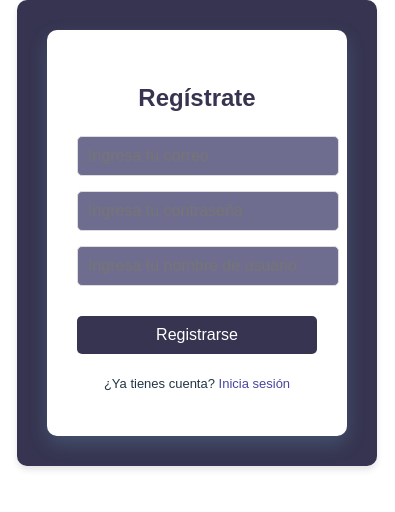
Scenario: Muestra error si el correo ya esta registrado
# datos a ingresar que ya estan registrados (simulación de interacción)
Type "quispeaguilar.bel3n@gmail.com" into the field with placeholder "Ingresa tu correo".
click(208, 156); type("quispeaguilar.bel3n@gmail.com")  # box [77,136,339,176]
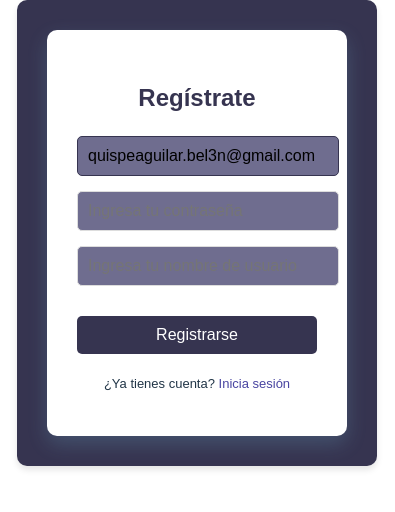
Type "yosoyaye" into the password field with placeholder "Ingresa tu contraseña".
click(208, 211); type("yosoyaye")  # box [77,191,339,231]
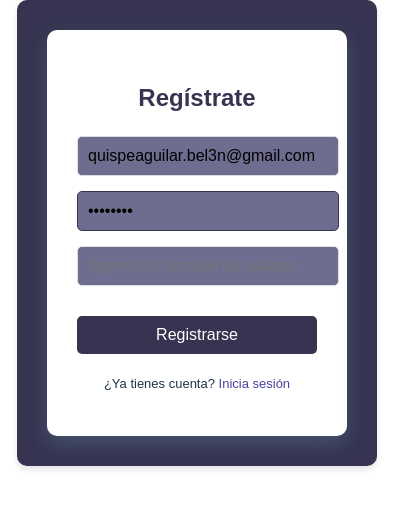
Type "Ayelen" into the field with placeholder "Ingresa tu nombre de usuario".
click(208, 266); type("Ayelen")  # box [77,246,339,286]
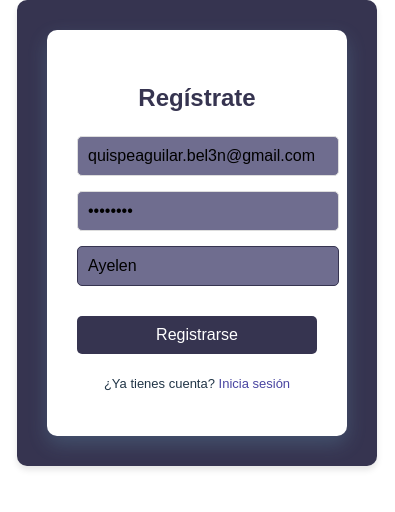
# simula el click en el boton
Click the button "Registrarse".
click(197, 335)  # box [77,316,317,354]
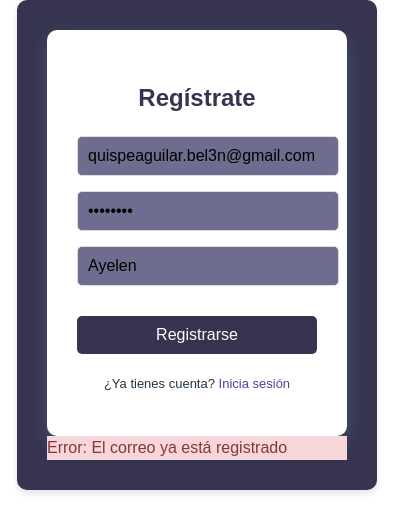
Result: the text "Error: El correo ya está registrado" is shown at [47,436,347,460]
